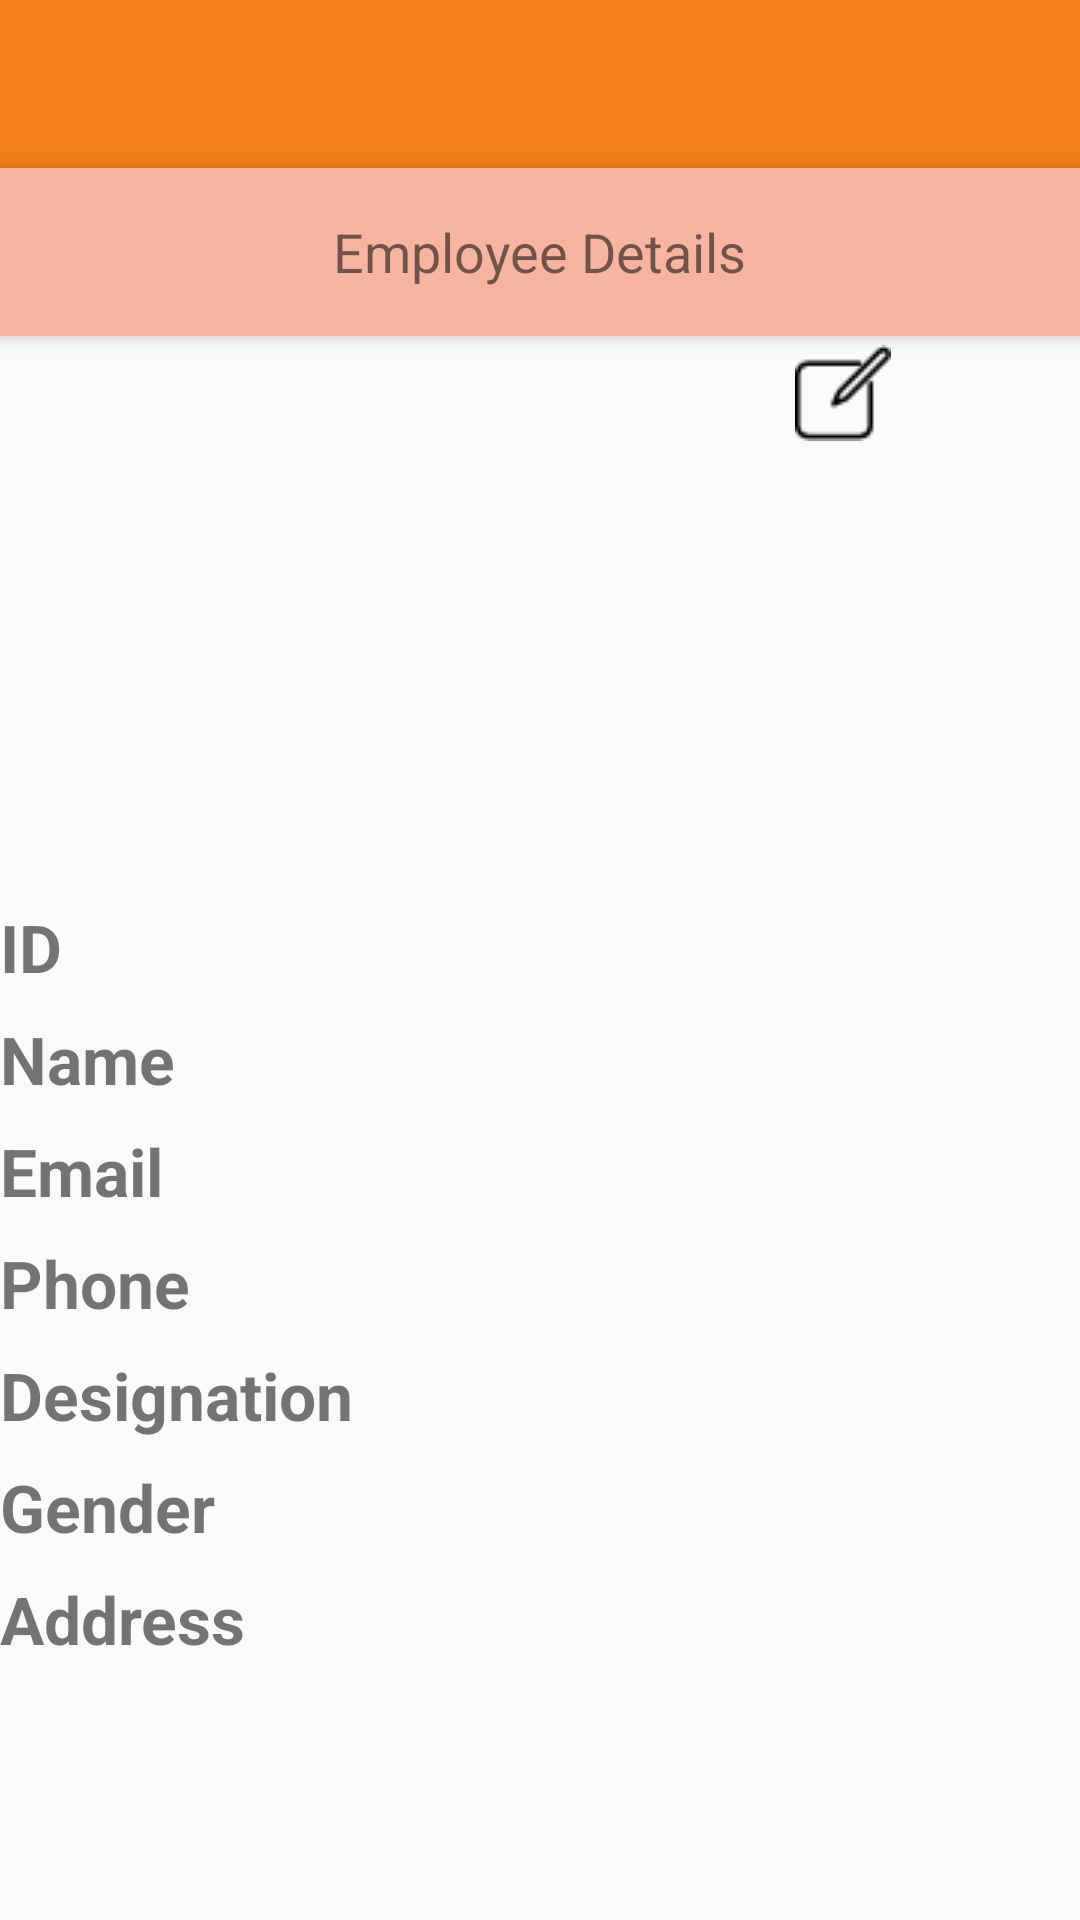

Locate icon controls on the screen. Image size 1080w x 1920h, boxes as (x1, y1, x2, y2).
editbutton: (795, 345, 891, 441)
